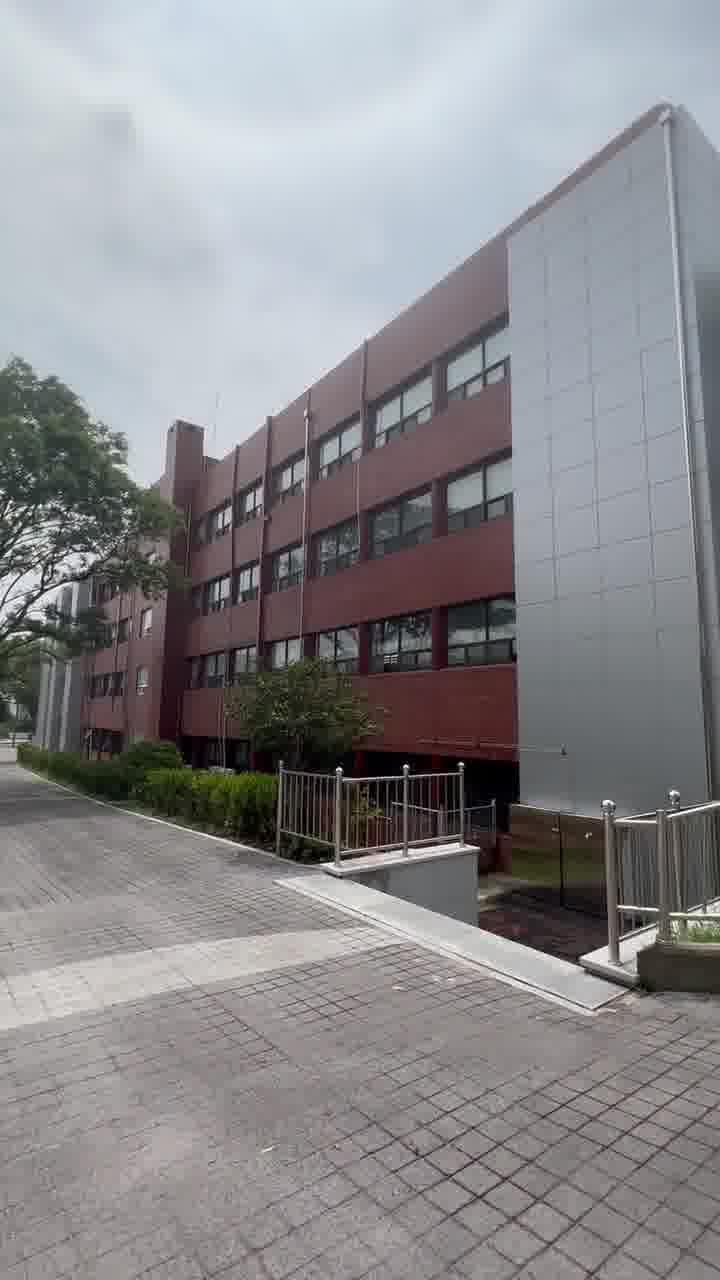building: (146, 280, 720, 748)
